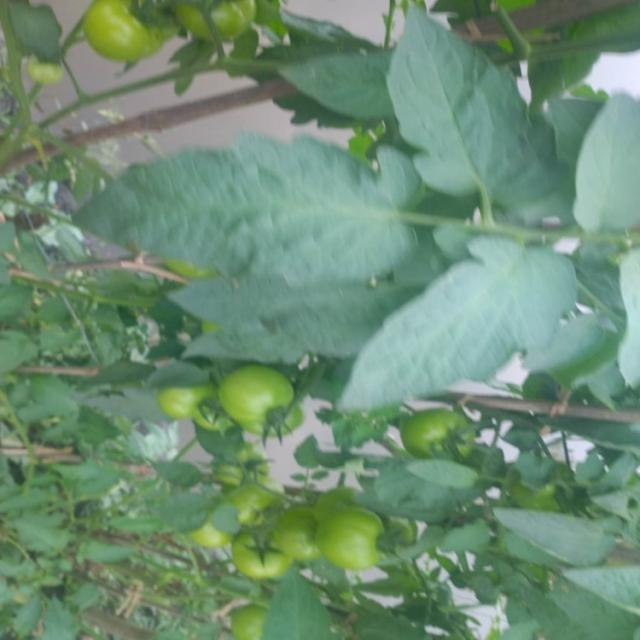tomato: (219, 358, 324, 445), (314, 498, 404, 575), (402, 396, 481, 462), (77, 1, 168, 58), (271, 492, 329, 570), (213, 449, 286, 502), (175, 1, 258, 45), (233, 526, 293, 584), (167, 382, 229, 435), (520, 475, 583, 523), (232, 478, 284, 528), (226, 597, 267, 640)
